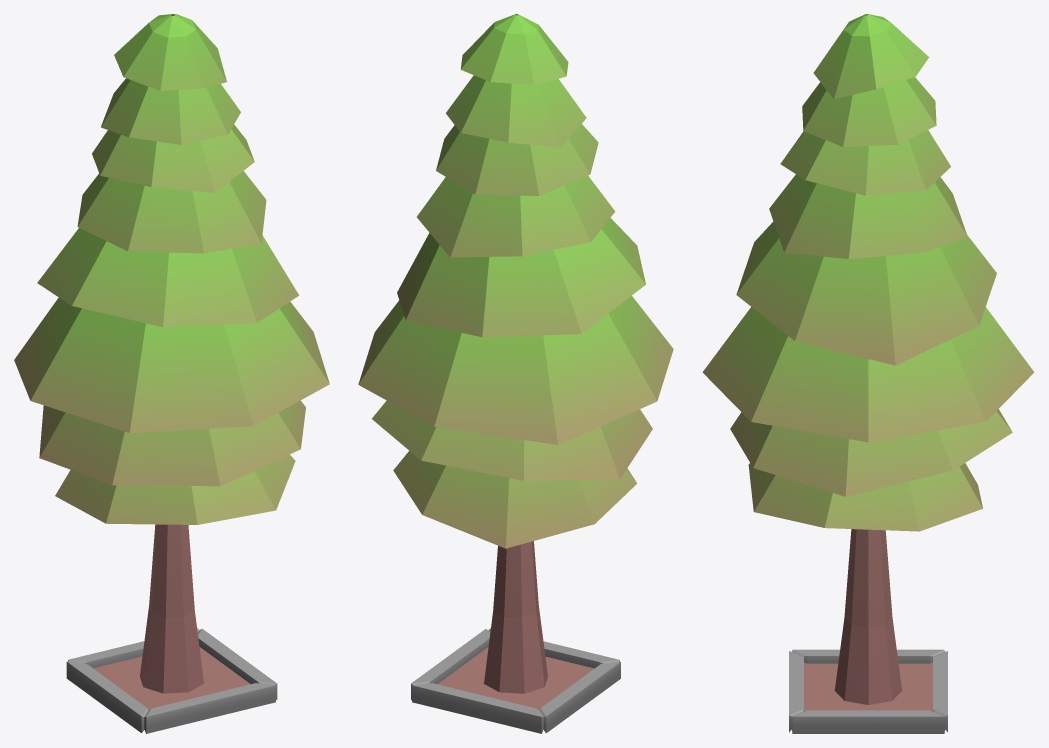
Rendered from BaumGroß.glb.
3 renders of one model, left to right at view 1: azimuth 30°, elevation 25°; view 2: azimuth 150°, elevation 25°; view 3: azimuth 270°, elevation 25°, orthographic.
Visible parts, largest first — view 1: Cube.011; view 2: Cube.011; view 3: Cube.011.
Boxes of the visible parts, x1,y1,x2,y2 form: Cube.011: (14, 14, 329, 733); Cube.011: (358, 14, 673, 733); Cube.011: (702, 14, 1034, 733).
Bounding box in the file's own units: 2.61 × 5.95 × 2.61.
1 material, 1 textured.
